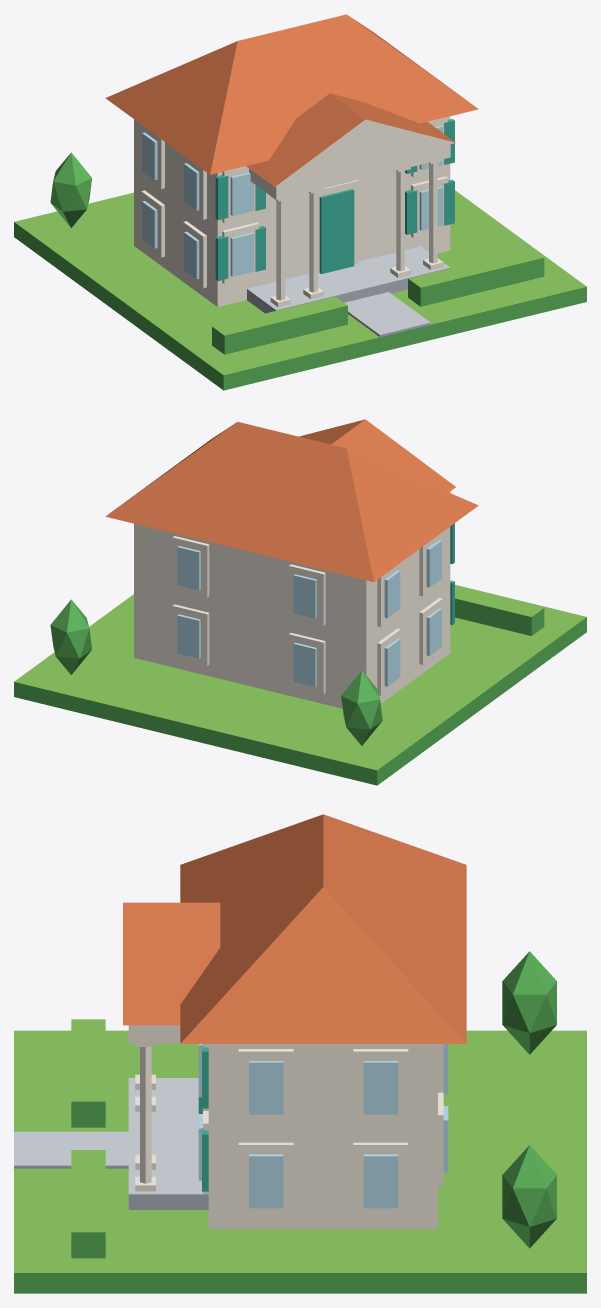
The model's file is house_colonial.glb.
The picture shows the model from 3 angles, top to bottom: view 1: azimuth 30°, elevation 25°; view 2: azimuth 150°, elevation 25°; view 3: azimuth 270°, elevation 25°; orthographic projection. The views are drawn at different scales.
Visible parts, largest first — view 1: house_colonial; view 2: house_colonial; view 3: house_colonial.
Part boxes in pixels (left/top/right/bottom): house_colonial: left=14, top=14, right=586, bottom=390; house_colonial: left=14, top=419, right=586, bottom=785; house_colonial: left=14, top=814, right=586, bottom=1293.
Size of the model in its own units: 1 by 0.62 by 1.
